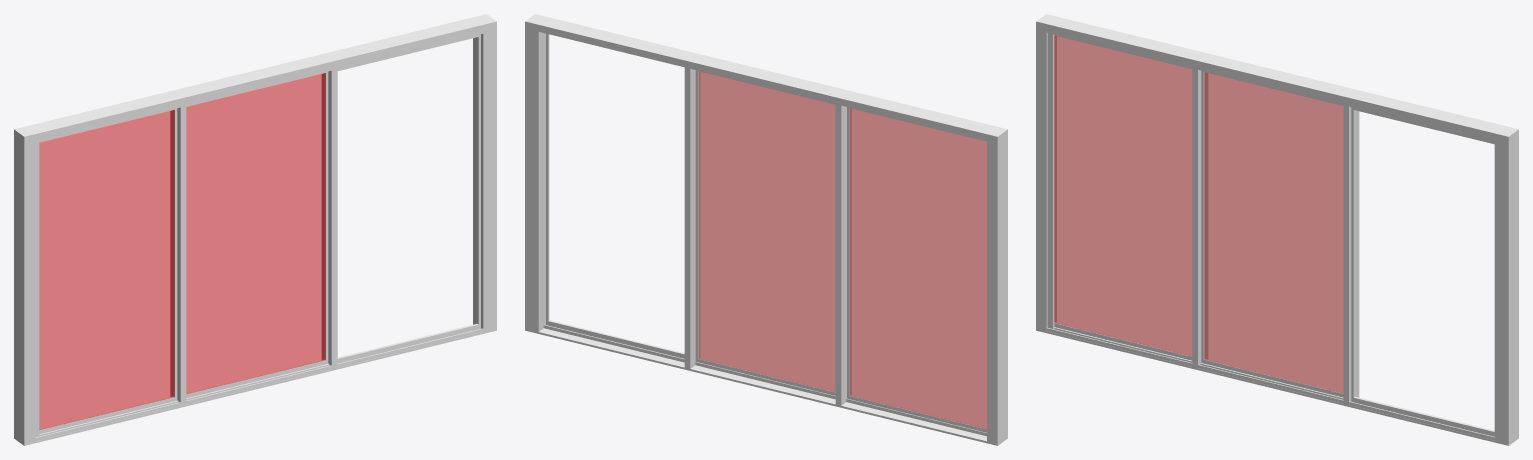
Rendered from wall with windows set 5.FBX.
3 renders of one model, left to right at view 1: azimuth 30°, elevation 25°; view 2: azimuth 150°, elevation 25°; view 3: azimuth 330°, elevation 25°, orthographic.
Parts seen in each view (by area): view 1: wall with windows set 5; view 2: wall with windows set 5; view 3: wall with windows set 5.
Part boxes in pixels (left/top/right/bottom): wall with windows set 5: left=14, top=14, right=496, bottom=445; wall with windows set 5: left=525, top=14, right=1007, bottom=445; wall with windows set 5: left=1036, top=14, right=1518, bottom=445.
Bounding box in the file's own units: 4 × 2.5 × 0.15.
